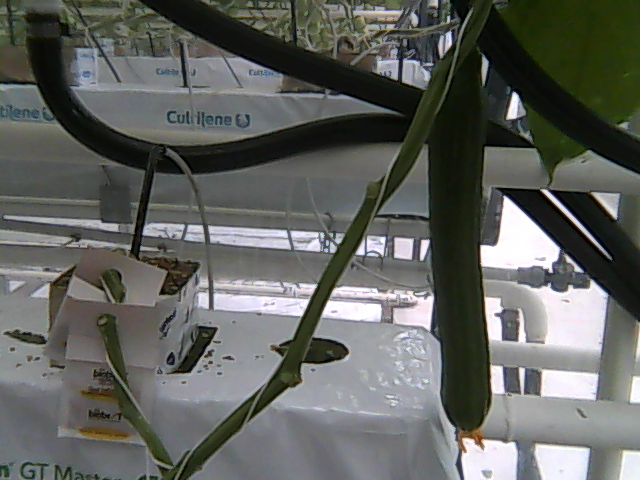concombre: (426, 40, 495, 454)
